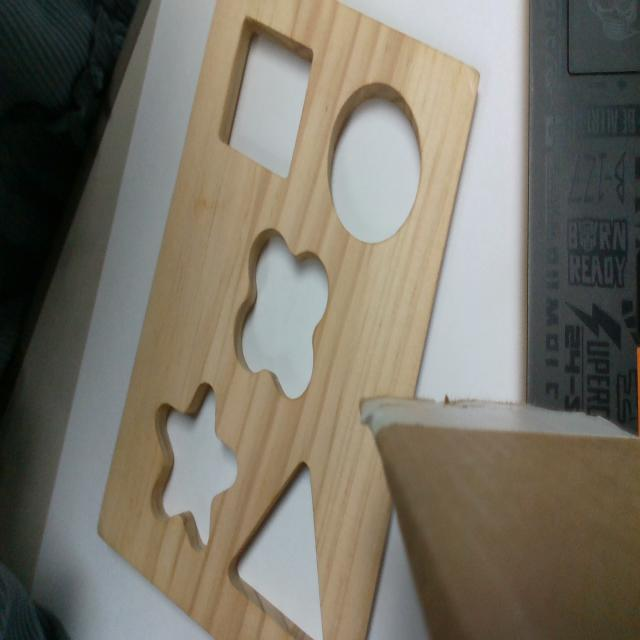circle: (330, 86, 423, 244)
flower: (233, 233, 329, 397)
square: (219, 14, 314, 181), (150, 379, 238, 553)
triangle: (224, 457, 325, 639)
